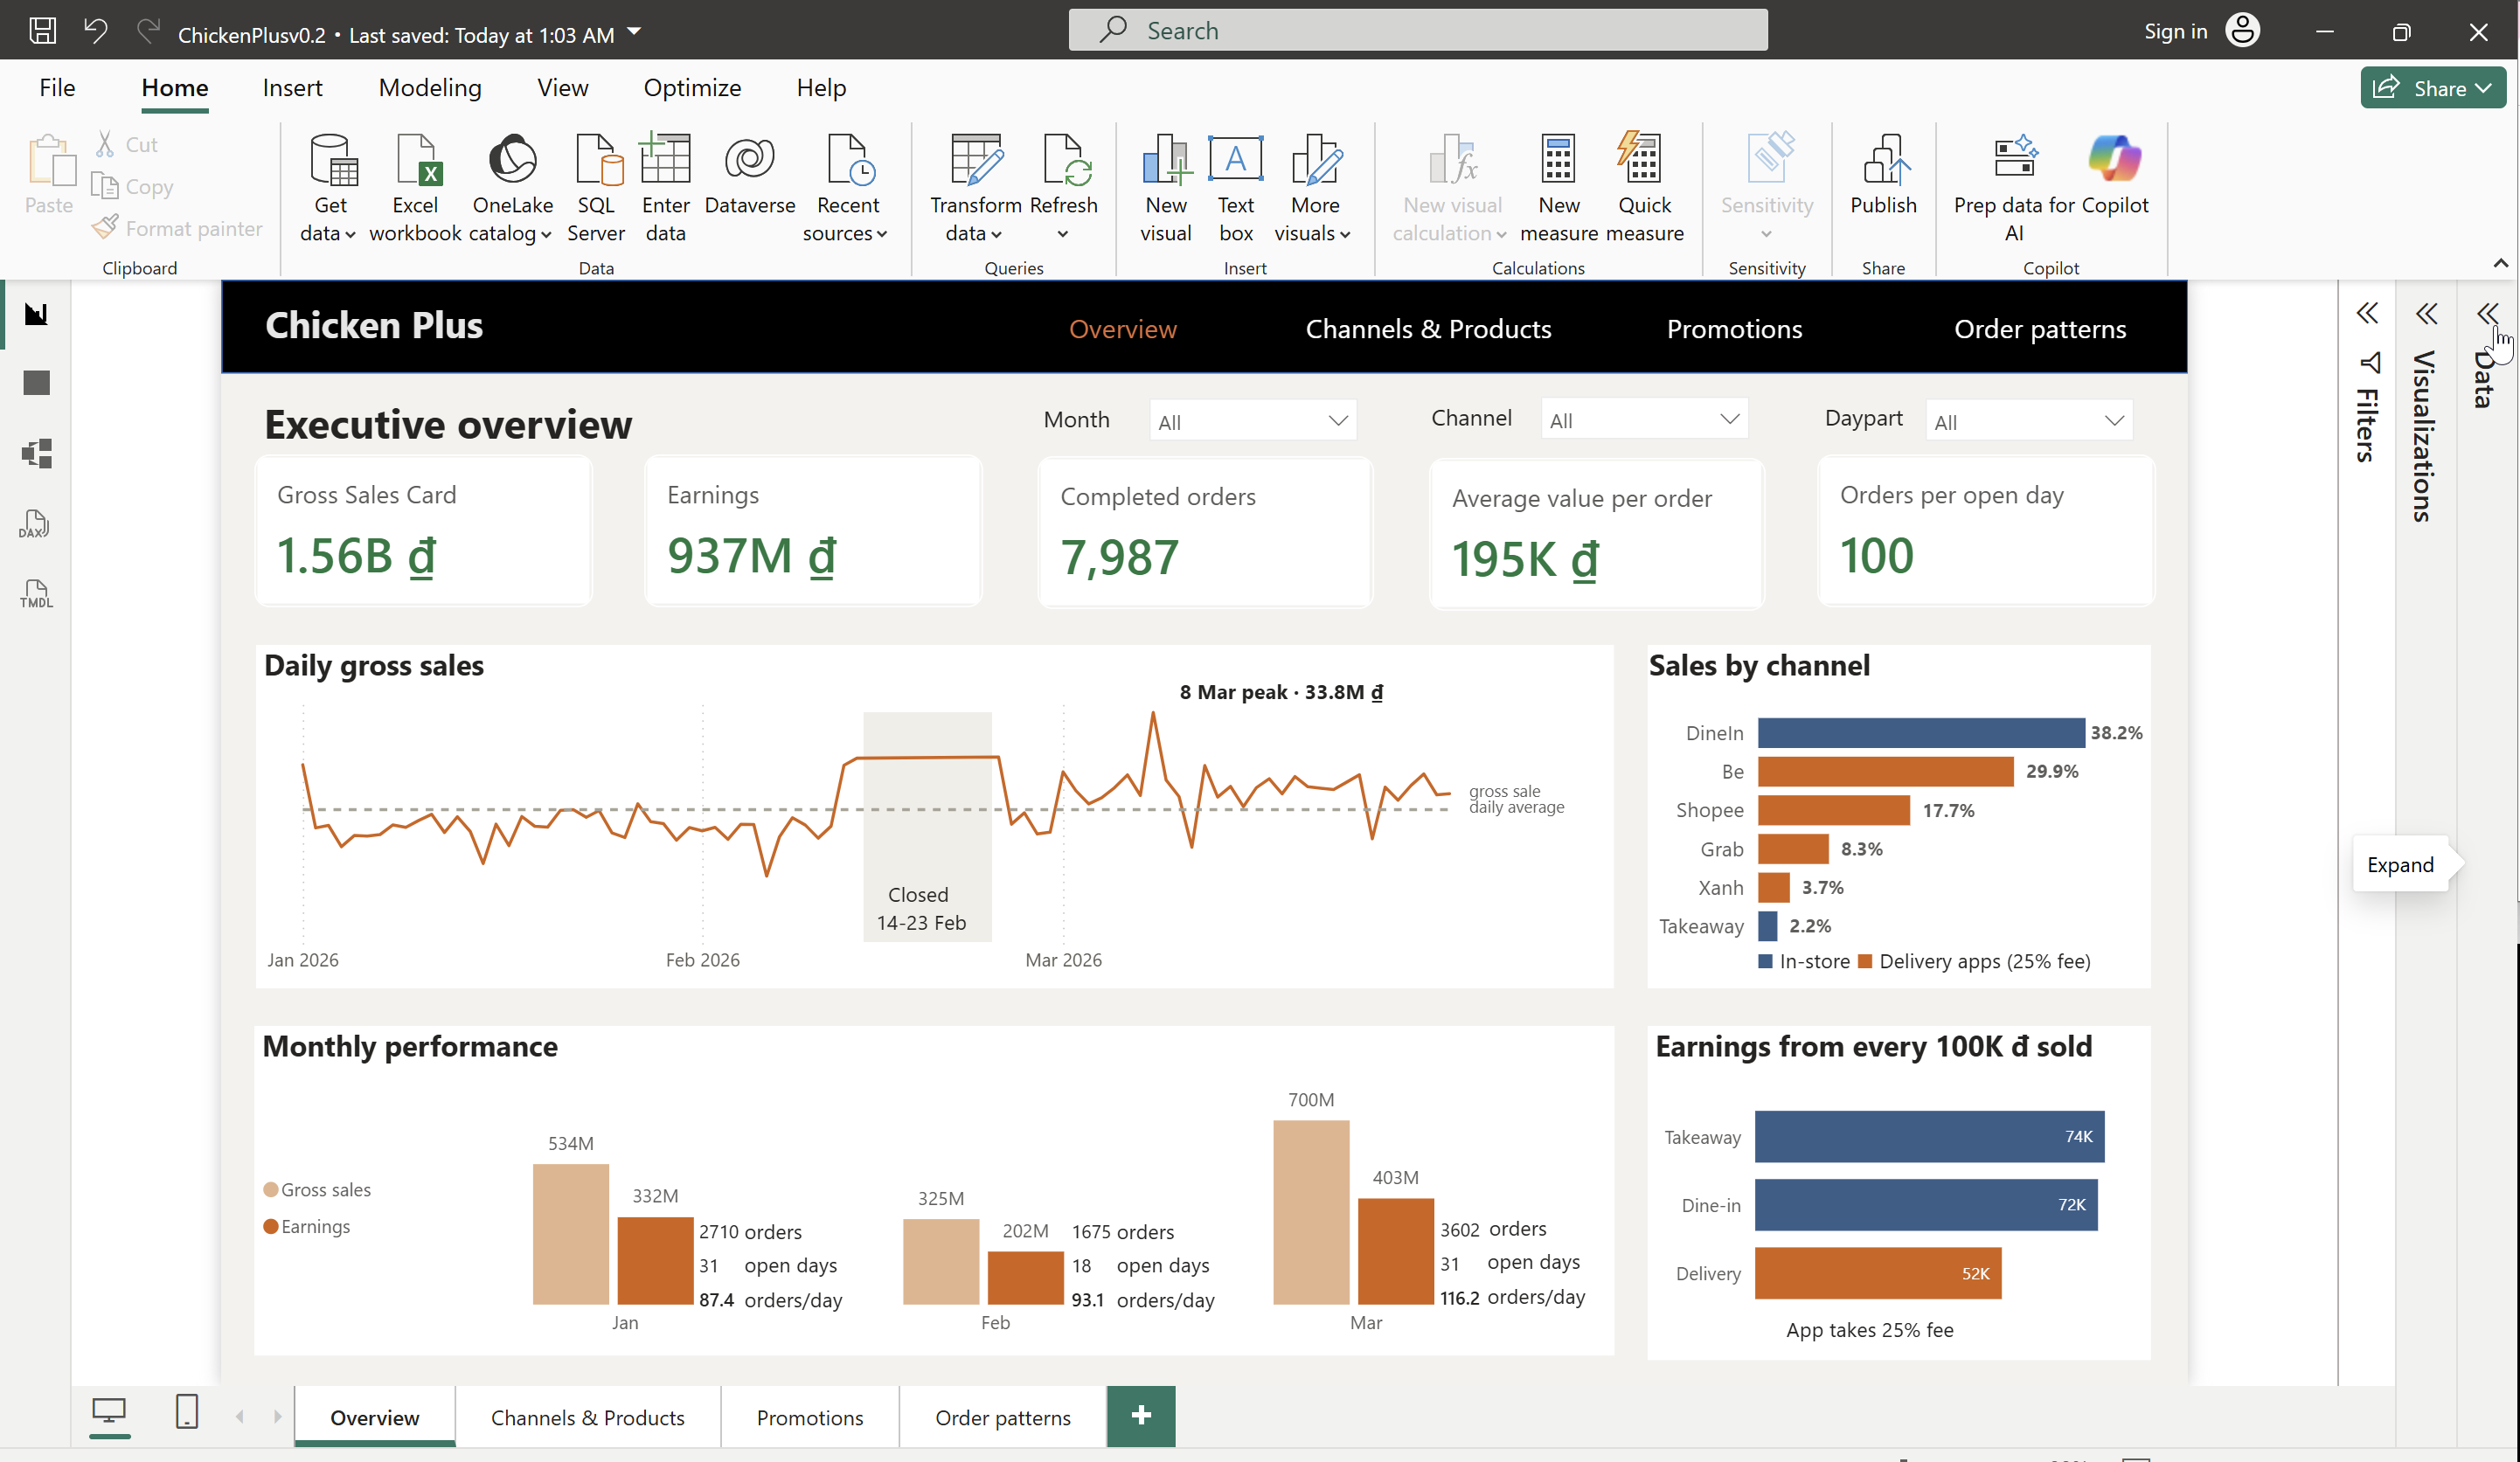

Layout of this report page (visuals, bound fields, positions):
{"tool":"powerbi","page":{"name":"Overview","canvas":[1280,720],"ordinal":0},"visuals":[{"type":"group","id":"g1","title":"Header","box":[0,0,1280,73.9],"z":0},{"type":"shape","box":[0,0,1280,61.2],"z":0,"group":"g1"},{"type":"textbox","box":[23.5,6.7,199.9,67.2],"z":1000,"group":"g1"},{"type":"textbox","box":[23,68.9,252.6,50.5],"z":1000},{"type":"pageNavigator","box":[493,6.4,787,49.7],"z":2000,"group":"g1"},{"type":"slicer","fields":{"Values":["date.Month"]},"box":[594.1,67.4,156.2,41.3],"z":2000},{"type":"textbox","box":[529.8,75,59.7,38.3],"z":3000},{"type":"slicer","fields":{"Values":["orders.CHANNEL"]},"box":[848.2,65.8,156.2,42.9],"z":4000},{"type":"textbox","box":[782.4,73.5,65.8,35.2],"z":5000},{"type":"slicer","fields":{"Values":["orders.DAYPART"]},"box":[1099.3,67.4,156.2,42.9],"z":6000},{"type":"textbox","box":[1038.1,73.5,61.2,33.7],"z":7000},{"type":"cardVisual","fields":{"Data":["_Measure.Gross Sales Card"]},"box":[21.4,113.3,220.5,99.5],"z":8000},{"type":"cardVisual","fields":{"Data":["_Measure.Earnings"]},"box":[275.6,113.3,220.5,99.5],"z":9000},{"type":"cardVisual","fields":{"Data":["_Measure.Orders"]},"box":[531.3,114.8,218.9,99.5],"z":10000},{"type":"cardVisual","fields":{"Data":["_Measure.AOV"]},"box":[785.5,116.4,218.9,99.5],"z":11000},{"type":"cardVisual","fields":{"Data":["_Measure.Orders per Open Day"]},"box":[1038.1,113.3,220.5,99.5],"z":12000},{"type":"lineClusteredColumnComboChart","title":"Daily gross sales","fields":{"Category":["date.Date"],"Y":["_Measure.Closed Day Band"],"Y2":["_Measure.Gross Sales","_Measure.Avg Daily Sales Line"]},"box":[23,237.3,883.4,223.5],"z":13000},{"type":"textbox","box":[414.9,385.8,81.1,64.3],"z":14000},{"type":"textbox","box":[618.6,254.2,182.2,39.8],"z":15000},{"type":"clusteredBarChart","title":"Sales by channel","fields":{"Category":["orders.CHANNEL"],"Y":["_Measure.Channel Share %"]},"box":[927.8,237.3,327.7,223.5],"z":16000},{"type":"textbox","box":[993.7,428.7,235.8,41.3],"z":17000},{"type":"clusteredColumnChart","title":"Monthly performance","fields":{"Category":["date.Month"],"Y":["_Measure.Gross Sales","_Measure.Earnings"]},"box":[21.4,485.4,885,214.4],"z":18000},{"type":"cardVisual","fields":{"Data":["_Measure.Orders","_Measure.Open Days","_Measure.Orders per Open Day"]},"box":[281.7,592.5,133.2,96.5],"z":19000},{"type":"group","id":"g2","title":"Group 1","box":[335.3,604.8,79.6,75],"z":20000},{"type":"cardVisual","fields":{"Data":["_Measure.Orders","_Measure.Open Days","_Measure.Orders per Open Day"]},"box":[524,592.5,133.2,96.5],"z":21000},{"type":"textbox","box":[820.2,603,68.9,30.6],"z":22000,"group":"g4"},{"type":"textbox","box":[335.3,604.8,68.9,30.6],"z":22000,"group":"g2"},{"type":"group","id":"g3","title":"Group 1","box":[578,605,79.6,75],"z":22000},{"type":"textbox","box":[578,605,68.9,30.6],"z":22000,"group":"g3"},{"type":"cardVisual","fields":{"Data":["_Measure.Orders","_Measure.Open Days","_Measure.Orders per Open Day"]},"box":[764,592,133.2,96.5],"z":23000},{"type":"group","id":"g4","title":"Group 1","box":[818.5,603,79,73.9],"z":24000},{"type":"textbox","box":[818.5,624.3,79.6,30.6],"z":24000,"group":"g4"},{"type":"textbox","box":[335.6,626.1,79.6,30.6],"z":24000,"group":"g2"},{"type":"textbox","box":[578.3,626.3,79.6,30.6],"z":24000,"group":"g3"},{"type":"clusteredBarChart","title":"Earnings from every 100K đ sold","fields":{"Category":["orders.FULFILMENT_TYPE"],"Y":["_Measure.Earnings per 100K"]},"box":[927.8,485.4,327.7,217.4],"z":25000},{"type":"textbox","box":[818.5,647,79.6,30.6],"z":25000,"group":"g4"},{"type":"textbox","box":[335.6,648.8,79.6,30.6],"z":25000,"group":"g2"},{"type":"textbox","box":[578.3,649,79.6,30.6],"z":25000,"group":"g3"},{"type":"textbox","box":[1013.6,669.1,170,50.5],"z":26000}]}

Visuals, with their boxes on the page's 1280x720 design canvas (x1, y1, x2, y2). These are canvas units, not pixel positions in the 2520x1462 screenshot, which may show the page scaled, cropped or inside an application window:
"Header" group: x1=0 y1=0 x2=1280 y2=74
shape: x1=0 y1=0 x2=1280 y2=61
textbox: x1=24 y1=7 x2=223 y2=74
textbox: x1=23 y1=69 x2=276 y2=119
pageNavigator: x1=493 y1=6 x2=1280 y2=56
slicer - date.Month: x1=594 y1=67 x2=750 y2=109
textbox: x1=530 y1=75 x2=590 y2=113
slicer - orders.CHANNEL: x1=848 y1=66 x2=1004 y2=109
textbox: x1=782 y1=74 x2=848 y2=109
slicer - orders.DAYPART: x1=1099 y1=67 x2=1256 y2=110
textbox: x1=1038 y1=74 x2=1099 y2=107
cardVisual - _Measure.Gross Sales Card: x1=21 y1=113 x2=242 y2=213
cardVisual - _Measure.Earnings: x1=276 y1=113 x2=496 y2=213
cardVisual - _Measure.Orders: x1=531 y1=115 x2=750 y2=214
cardVisual - _Measure.AOV: x1=786 y1=116 x2=1004 y2=216
cardVisual - _Measure.Orders per Open Day: x1=1038 y1=113 x2=1259 y2=213
"Daily gross sales" lineClusteredColumnComboChart: x1=23 y1=237 x2=906 y2=461
textbox: x1=415 y1=386 x2=496 y2=450
textbox: x1=619 y1=254 x2=801 y2=294
"Sales by channel" clusteredBarChart: x1=928 y1=237 x2=1256 y2=461
textbox: x1=994 y1=429 x2=1230 y2=470
"Monthly performance" clusteredColumnChart: x1=21 y1=485 x2=906 y2=700
cardVisual - _Measure.Orders x _Measure.Open Days: x1=282 y1=592 x2=415 y2=689
"Group 1" group: x1=335 y1=605 x2=415 y2=680
cardVisual - _Measure.Orders x _Measure.Open Days: x1=524 y1=592 x2=657 y2=689
textbox: x1=820 y1=603 x2=889 y2=634
textbox: x1=335 y1=605 x2=404 y2=635
"Group 1" group: x1=578 y1=605 x2=658 y2=680
textbox: x1=578 y1=605 x2=647 y2=636
cardVisual - _Measure.Orders x _Measure.Open Days: x1=764 y1=592 x2=897 y2=688
"Group 1" group: x1=818 y1=603 x2=898 y2=677
textbox: x1=818 y1=624 x2=898 y2=655
textbox: x1=336 y1=626 x2=415 y2=657
textbox: x1=578 y1=626 x2=658 y2=657
"Earnings from every 100K đ sold" clusteredBarChart: x1=928 y1=485 x2=1256 y2=703
textbox: x1=818 y1=647 x2=898 y2=678
textbox: x1=336 y1=649 x2=415 y2=679
textbox: x1=578 y1=649 x2=658 y2=680
textbox: x1=1014 y1=669 x2=1184 y2=720
